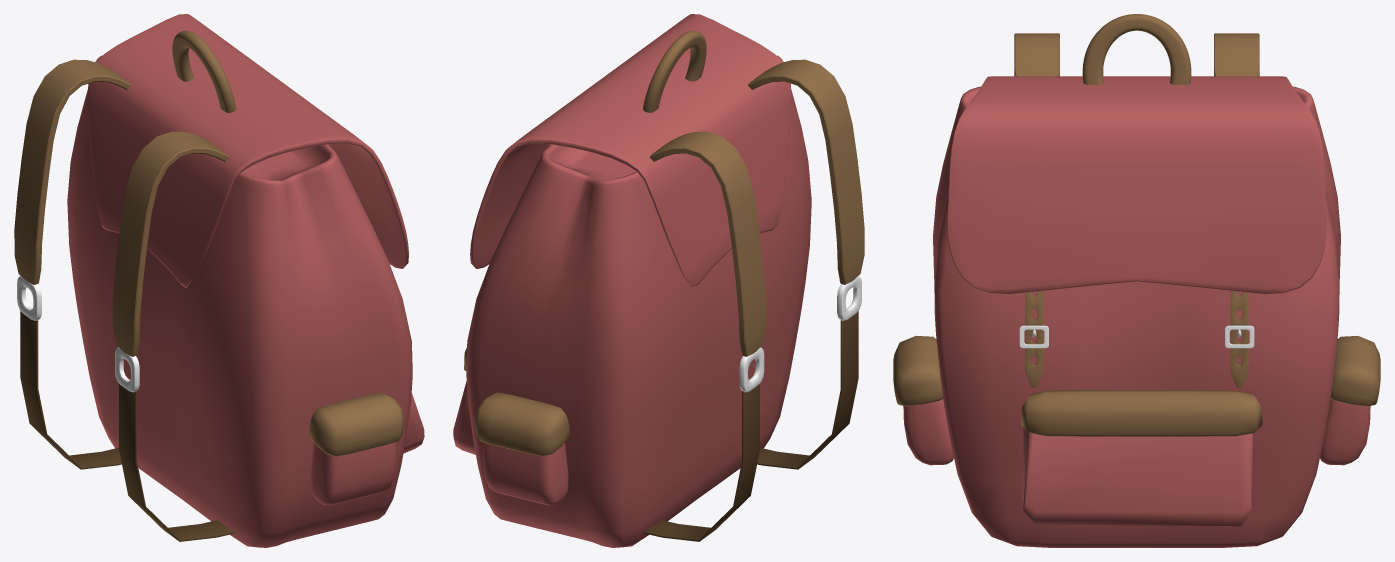
The model's file is Mochila_roja_2.fbx.
3 renders of one model, left to right at view 1: azimuth 30°, elevation 25°; view 2: azimuth 150°, elevation 25°; view 3: azimuth 270°, elevation 25°, orthographic.
Parts seen in each view (by area): view 1: polySurface413; view 2: polySurface413; view 3: polySurface413.
Boxes of the visible parts, x1=… form: polySurface413: x1=14, y1=14, x2=424, y2=547; polySurface413: x1=453, y1=14, x2=864, y2=547; polySurface413: x1=893, y1=14, x2=1380, y2=547.
Bounding box in the file's own units: 39.47 × 59.41 × 55.05.
